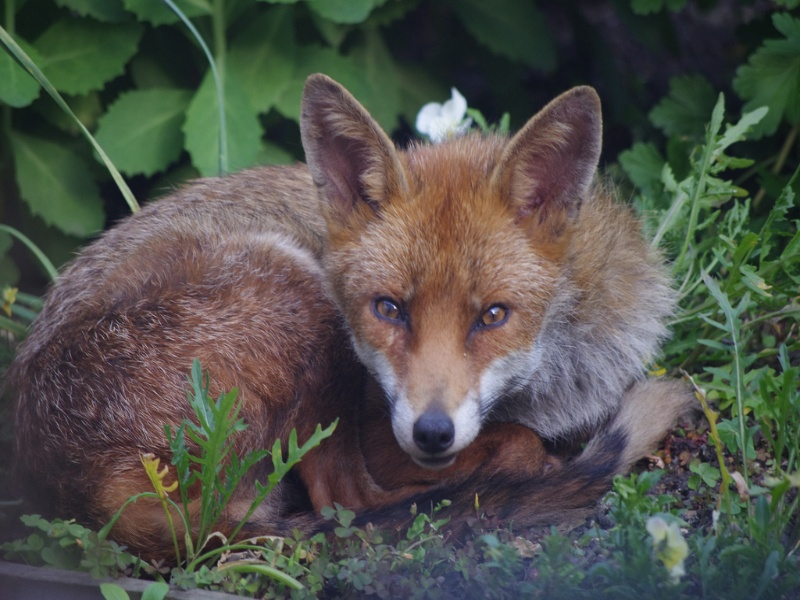fox: (14, 83, 664, 547)
